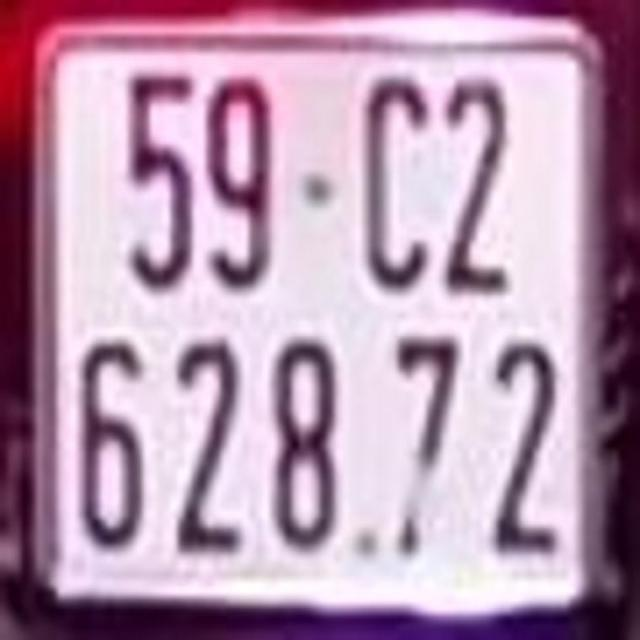2: (438, 74, 516, 296), (167, 333, 240, 550), (498, 336, 561, 549)
5: (122, 76, 196, 286)
6: (80, 340, 148, 550)
7: (384, 332, 454, 548)
8: (267, 334, 338, 542)
9: (200, 75, 283, 282)
C: (357, 74, 430, 288)
